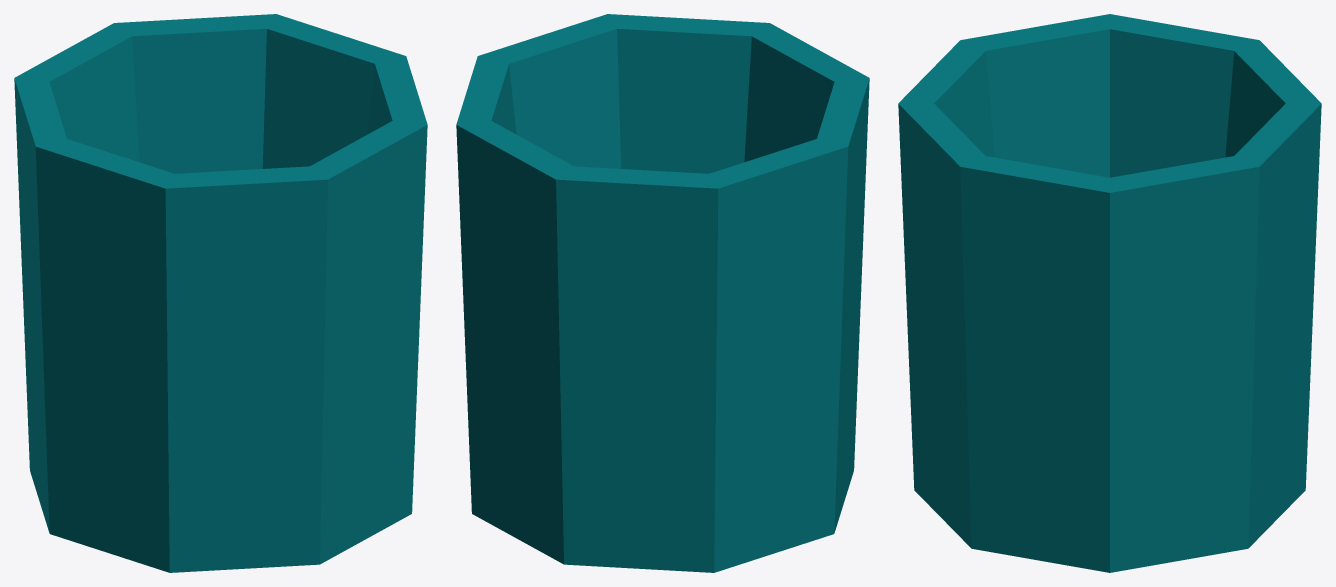
File: shot.FBX
3 views of the same model, side by side, from view 1: azimuth 30°, elevation 25°; view 2: azimuth 150°, elevation 25°; view 3: azimuth 270°, elevation 25° (orthographic).
Parts seen in each view (by area): view 1: shot; view 2: shot; view 3: shot.
Boxes of the visible parts, x1,y1,x2,y2 form: shot: (14,14,427,572); shot: (456,14,869,572); shot: (898,14,1321,572).
Bounding box in the file's own units: 1.27 × 1.28 × 1.27.
